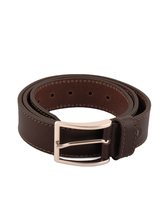other: (2, 73, 154, 166)
